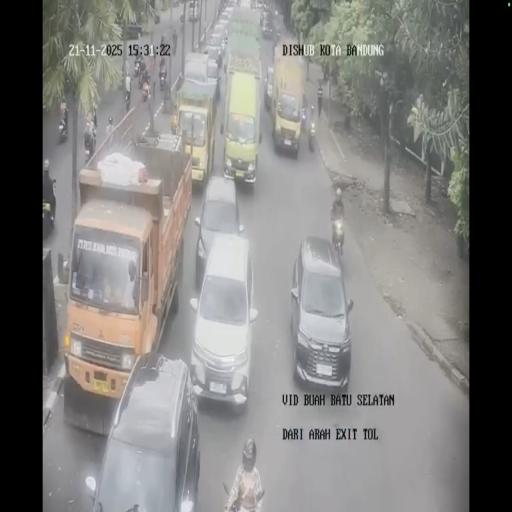car: (90, 354, 200, 509), (188, 232, 257, 408), (291, 236, 352, 391), (204, 44, 223, 75), (218, 5, 234, 31), (265, 66, 274, 108), (261, 18, 273, 39), (188, 0, 199, 21), (258, 6, 266, 24)
motorcycle: (331, 217, 344, 262), (42, 201, 53, 239), (140, 66, 150, 90), (308, 119, 315, 152), (58, 116, 67, 139), (84, 142, 92, 166), (158, 68, 166, 90), (172, 29, 178, 53), (273, 26, 280, 46), (133, 59, 140, 76), (159, 52, 165, 70), (125, 92, 130, 112), (149, 42, 155, 58), (180, 13, 185, 30), (160, 34, 164, 47)
truck: (174, 58, 220, 192), (221, 60, 261, 186), (268, 48, 304, 158), (224, 6, 262, 78)
